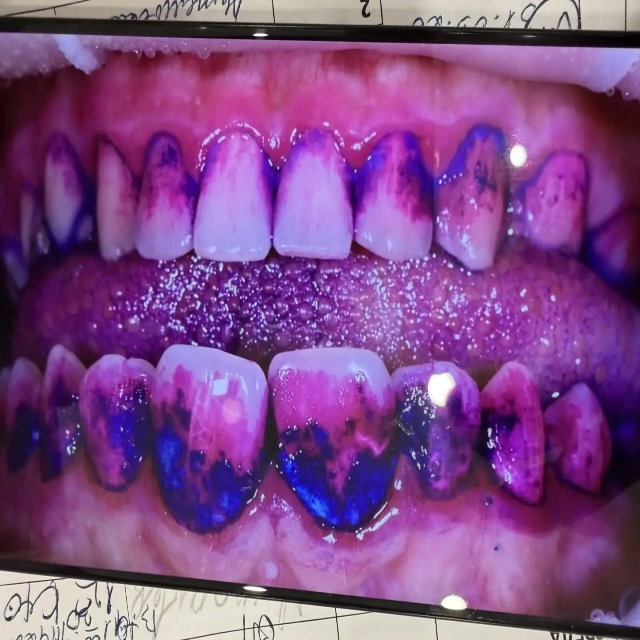clean_tooth: (63, 582, 551, 639), (0, 571, 94, 639), (381, 0, 528, 27), (273, 0, 381, 22), (56, 0, 163, 18), (580, 0, 624, 28), (530, 1, 576, 26), (0, 0, 70, 14), (240, 0, 273, 20)
plaque: (0, 31, 639, 562), (588, 585, 639, 626)
